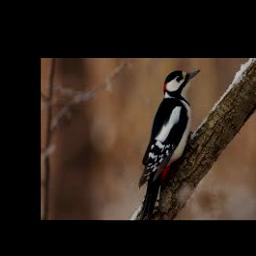Woodpecker: (139, 69, 201, 220)
